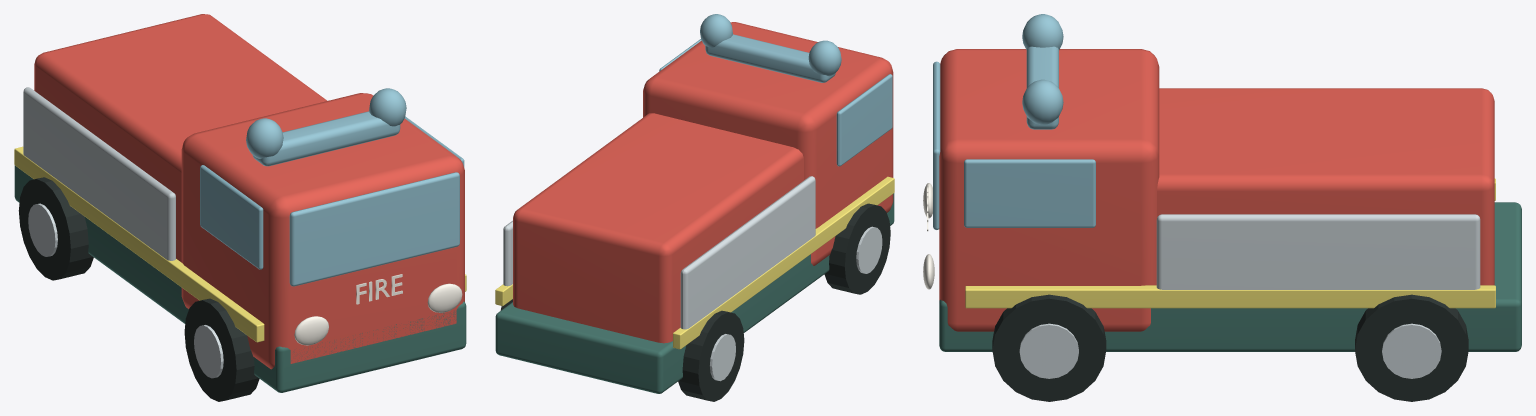
Rendered from fire-engine.glb.
3 views of the same model, side by side, from view 1: azimuth 30°, elevation 25°; view 2: azimuth 150°, elevation 25°; view 3: azimuth 270°, elevation 25° (orthographic). The views are drawn at different scales.
Visible parts, largest first — view 1: cab, beacon bar, equipment lockers, chassis, tyre, safety stripe, headlamp.001; view 2: cab, chassis, equipment lockers, beacon bar, tyre, safety stripe; view 3: cab, equipment lockers, chassis, tyre, beacon bar, safety stripe, headlamp.001.
Boxes of the visible parts, bbox=[...] form: cab: bbox=[34, 14, 464, 369]; beacon bar: bbox=[200, 88, 464, 286]; equipment lockers: bbox=[23, 87, 223, 378]; chassis: bbox=[14, 165, 466, 392]; tyre: bbox=[18, 177, 259, 401]; safety stripe: bbox=[14, 146, 466, 342]; headlamp.001: bbox=[294, 274, 462, 345]; cab: bbox=[513, 22, 893, 343]; chassis: bbox=[495, 193, 894, 393]; equipment lockers: bbox=[503, 176, 882, 381]; beacon bar: bbox=[659, 14, 892, 166]; tyre: bbox=[500, 203, 890, 401]; safety stripe: bbox=[495, 176, 894, 349]; cab: bbox=[939, 49, 1494, 331]; equipment lockers: bbox=[1019, 214, 1480, 378]; chassis: bbox=[939, 202, 1521, 351]; tyre: bbox=[992, 294, 1468, 401]; beacon bar: bbox=[933, 14, 1095, 229]; safety stripe: bbox=[965, 178, 1495, 308]; headlamp.001: bbox=[923, 183, 934, 289].
Bounding box in the file's own units: 2.26 × 2.5 × 4.62.
